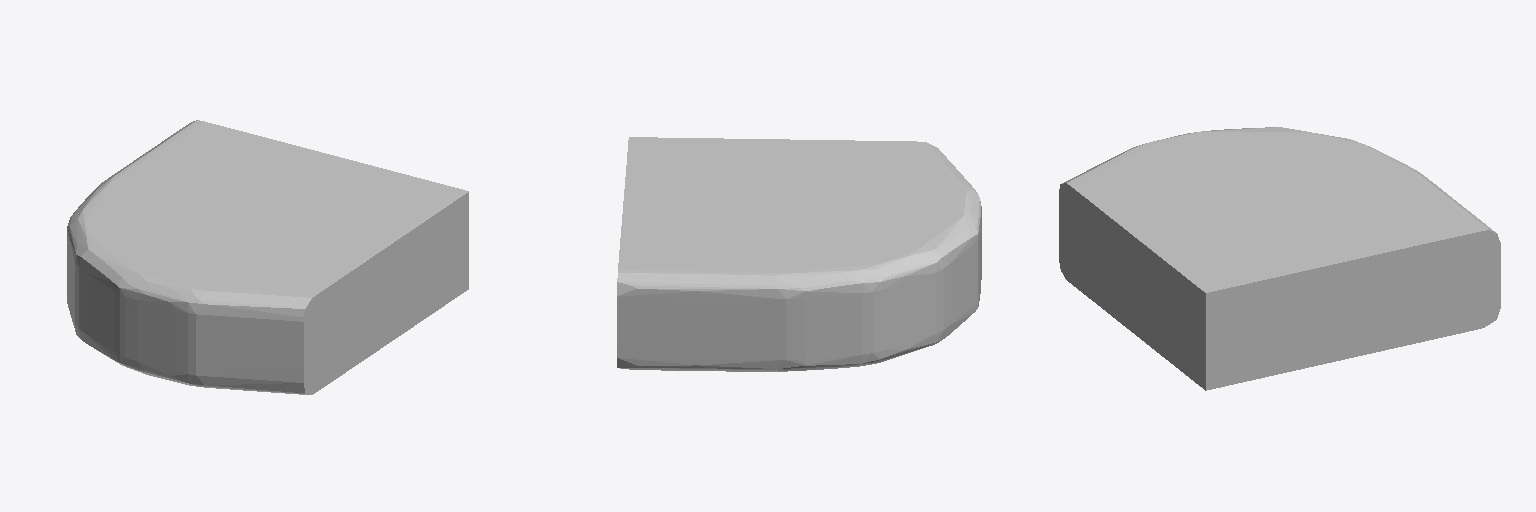
File: arm_v1__1__1_mesh_0_collision_3.obj
3 views of the same model, side by side, from view 1: azimuth 30°, elevation 25°; view 2: azimuth 150°, elevation 25°; view 3: azimuth 270°, elevation 25° (orthographic).
Bounding box in the file's own units: 0.0088 × 0.0023 × 0.0096.